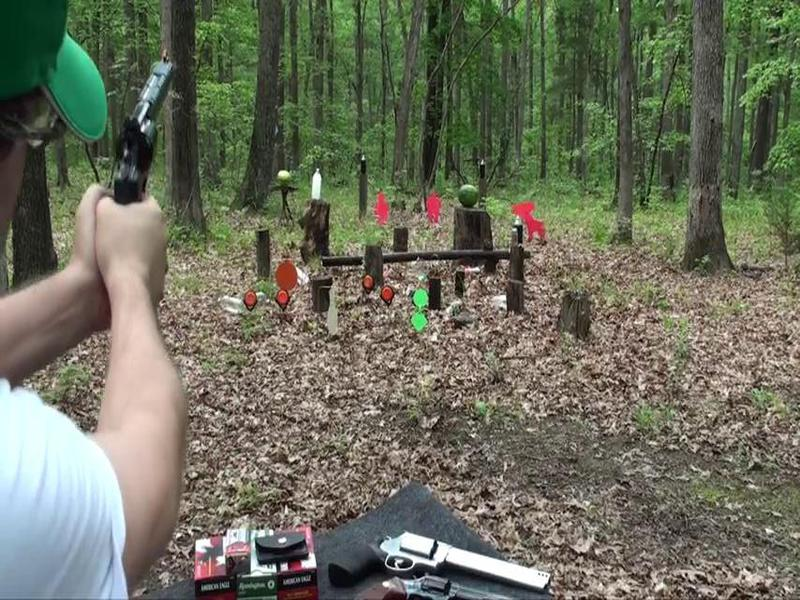Revolver: (109, 46, 180, 230)
